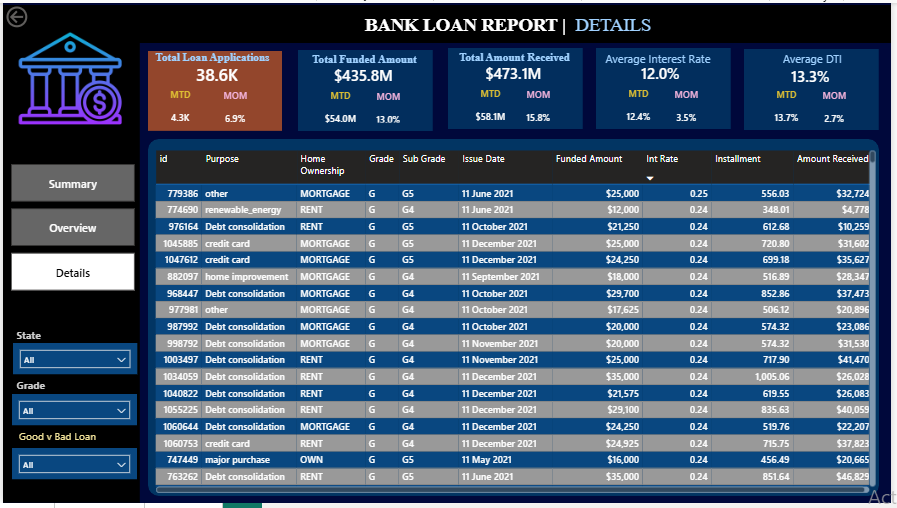

The dashboard page shown, as its layout file describes it:
{"tool":"powerbi","page":{"name":"Details","canvas":[1280,720],"ordinal":2},"visuals":[{"type":"shape","box":[0,2.9,1280.2,54.7],"z":0},{"type":"shape","box":[640.5,64.8,194.4,116.6],"z":0,"group":"g3"},{"type":"shape","box":[853.9,64.8,194.4,116.6],"z":0,"group":"g4"},{"type":"shape","box":[1067.4,66.2,194.4,116.6],"z":0,"group":"g5"},{"type":"shape","box":[425.1,67.7,194.4,116.6],"z":0,"group":"g2"},{"type":"shape","box":[208.6,69.2,193,115.3],"z":0,"group":"g1"},{"type":"cardVisual","fields":{"Data":["financial_loan.Total Amount Received"]},"box":[641.2,67.5,185.8,63.4],"z":1000,"group":"g3"},{"type":"cardVisual","fields":{"Data":["financial_loan.Avg Interest Rate"]},"box":[854.5,67.5,185.8,63.4],"z":1000,"group":"g4"},{"type":"cardVisual","fields":{"Data":["financial_loan.Total Funded Amount"]},"box":[425.8,70.4,185.8,63.4],"z":1000,"group":"g2"},{"type":"cardVisual","fields":{"Data":["financial_loan.Avg DTI"]},"box":[1069.7,72.1,185.8,63.4],"z":1000,"group":"g5"},{"type":"cardVisual","fields":{"Data":["financial_loan.Total Loan Application"]},"box":[215,73,184.3,56.2],"z":1000,"group":"g1"},{"type":"shape","box":[208.8,195.8,1052.6,514.1],"z":1000},{"type":"shape","box":[0,57.6,197.3,662.4],"z":2000},{"type":"cardVisual","title":"MTD","fields":{"Data":["financial_loan.MTD Total Amount Received"]},"box":[645.7,120.8,111,66],"z":2000,"group":"g3"},{"type":"cardVisual","title":"MTD","fields":{"Data":["financial_loan.MTD Avg Int Rate"]},"box":[859.1,120.8,111,66],"z":2000,"group":"g4"},{"type":"cardVisual","title":"MTD","fields":{"Data":["financial_loan.MTD Loan Application"]},"box":[208.6,121.8,93.6,66.2],"z":2000,"group":"g1"},{"type":"cardVisual","title":"MTD","fields":{"Data":["financial_loan.MTD Avg DTI"]},"box":[1072.6,122.2,111,66],"z":2000,"group":"g5"},{"type":"cardVisual","title":"MTD","fields":{"Data":["financial_loan.MTD Funded Amount"]},"box":[430.3,123.7,111,66],"z":2000,"group":"g2"},{"type":"textbox","box":[483.8,11.5,486.7,46.1],"z":3000},{"type":"cardVisual","title":"MOM","fields":{"Data":["financial_loan.MOM Total Amount Received"]},"box":[724.4,121.9,93.6,66],"z":3000,"group":"g3"},{"type":"cardVisual","title":"MOM","fields":{"Data":["financial_loan.MOM Avg Int Rate"]},"box":[937.8,121.9,93.6,66],"z":3000,"group":"g4"},{"type":"cardVisual","title":"MOM","fields":{"Data":["financial_loan.MOM Avg DTI"]},"box":[1151.3,123.3,93.6,66],"z":3000,"group":"g5"},{"type":"cardVisual","title":"MOM","fields":{"Data":["financial_loan.MOM Loan Application"]},"box":[287,123.4,93.6,66.2],"z":3000,"group":"g1"},{"type":"cardVisual","title":"MOM","fields":{"Data":["financial_loan.MOM Funded Amount"]},"box":[509,124.8,93.6,64.8],"z":3000,"group":"g2"},{"type":"group","id":"g1","title":"Group 1","box":[196.6,64.5,208.8,125.1],"z":4000},{"type":"textbox","box":[196.6,64.5,208.8,31.7],"z":4000,"group":"g1"},{"type":"textbox","box":[637.3,65.1,197.3,29.2],"z":4000,"group":"g3"},{"type":"textbox","box":[421.9,68,197.3,29.2],"z":4000,"group":"g2"},{"type":"group","id":"g2","title":"Group 1","box":[421.9,67.7,197.3,122.4],"z":5000},{"type":"group","id":"g3","title":"Group 1","box":[637.3,64.8,197.3,123.8],"z":6000},{"type":"group","id":"g4","title":"Group 1","box":[853.9,64.8,194.4,123.8],"z":7000},{"type":"group","id":"g5","title":"Group 1","box":[1067.4,66.2,194.4,123.1],"z":8000},{"type":"textbox","box":[853.9,64.8,178.6,33.1],"z":9000},{"type":"textbox","box":[1069.9,64.8,191.5,34.6],"z":10000},{"type":"actionButton","box":[0,0,100,40],"z":11000},{"type":"slicer","fields":{"Values":["financial_loan.address_state"]},"box":[14.4,489.6,178.6,44.6],"z":12000},{"type":"textbox","box":[14.4,462.2,85,38.9],"z":13000},{"type":"slicer","fields":{"Values":["financial_loan.grade"]},"box":[13,563,180,44.6],"z":14000},{"type":"textbox","box":[14.4,534.2,85,38.9],"z":15000},{"type":"slicer","fields":{"Values":["financial_loan.purpose"]},"box":[13,640.8,180,44.6],"z":16000},{"type":"textbox","box":[13,607.7,131,33.1],"z":17000},{"type":"tableEx","fields":{"Values":["financial_loan.id","financial_loan.purpose","financial_loan.home_ownership","financial_loan.grade","financial_loan.sub_grade","financial_loan.issue_date","financial_loan.Total Funded Amount","Sum(financial_loan.int_rate)","Sum(financial_loan.installment)","financial_loan.Total Amount Received"]},"box":[214.6,207.4,1046.9,502.6],"z":20000},{"type":"image","box":[18.7,21.6,155.5,174.2],"z":21000},{"type":"pageNavigator","box":[11.5,231.8,178.6,182.9],"z":22000}]}

Visuals, with their boxes in screenshot pixels (x1, y1, x2, y2), scaled from the page's 1280x720 canvas onto the 897x508 screenshot:
shape: crop(0, 2, 896, 41)
shape: crop(449, 46, 585, 128)
shape: crop(598, 46, 735, 128)
shape: crop(748, 47, 884, 129)
shape: crop(298, 48, 434, 130)
shape: crop(146, 49, 281, 130)
cardVisual - financial_loan.Total Amount Received: crop(449, 48, 580, 92)
cardVisual - financial_loan.Avg Interest Rate: crop(599, 48, 729, 92)
cardVisual - financial_loan.Total Funded Amount: crop(298, 50, 429, 94)
cardVisual - financial_loan.Avg DTI: crop(750, 51, 880, 96)
cardVisual - financial_loan.Total Loan Application: crop(151, 52, 280, 91)
shape: crop(146, 138, 884, 501)
shape: crop(0, 41, 138, 507)
"MTD" cardVisual: crop(452, 85, 530, 132)
"MTD" cardVisual: crop(602, 85, 680, 132)
"MTD" cardVisual: crop(146, 86, 212, 133)
"MTD" cardVisual: crop(752, 86, 829, 133)
"MTD" cardVisual: crop(302, 87, 379, 134)
textbox: crop(339, 8, 680, 41)
"MOM" cardVisual: crop(508, 86, 573, 133)
"MOM" cardVisual: crop(657, 86, 723, 133)
"MOM" cardVisual: crop(807, 87, 872, 134)
"MOM" cardVisual: crop(201, 87, 267, 134)
"MOM" cardVisual: crop(357, 88, 422, 134)
"Group 1" group: crop(138, 46, 284, 134)
textbox: crop(138, 46, 284, 68)
textbox: crop(447, 46, 585, 67)
textbox: crop(296, 48, 434, 69)
"Group 1" group: crop(296, 48, 434, 134)
"Group 1" group: crop(447, 46, 585, 133)
"Group 1" group: crop(598, 46, 735, 133)
"Group 1" group: crop(748, 47, 884, 134)
textbox: crop(598, 46, 724, 69)
textbox: crop(750, 46, 884, 70)
actionButton: crop(0, 0, 70, 28)
slicer - financial_loan.address_state: crop(10, 345, 135, 377)
textbox: crop(10, 326, 70, 354)
slicer - financial_loan.grade: crop(9, 397, 135, 429)
textbox: crop(10, 377, 70, 404)
slicer - financial_loan.purpose: crop(9, 452, 135, 484)
textbox: crop(9, 429, 101, 452)
tableEx - financial_loan.id x financial_loan.purpose: crop(150, 146, 884, 501)
image: crop(13, 15, 122, 138)
pageNavigator: crop(8, 164, 133, 293)
